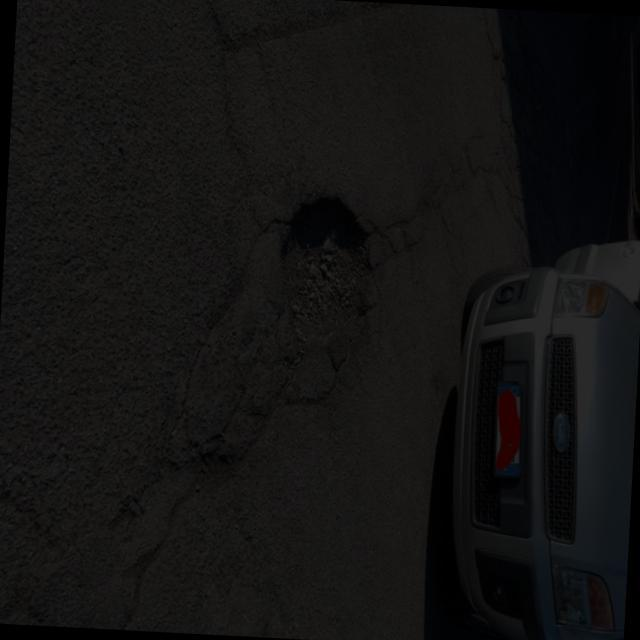pothole: (262, 184, 396, 348)
